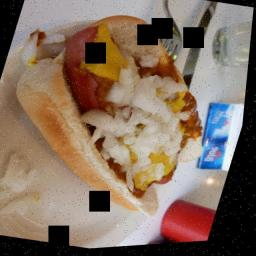hotdog: (0, 0, 246, 237)
